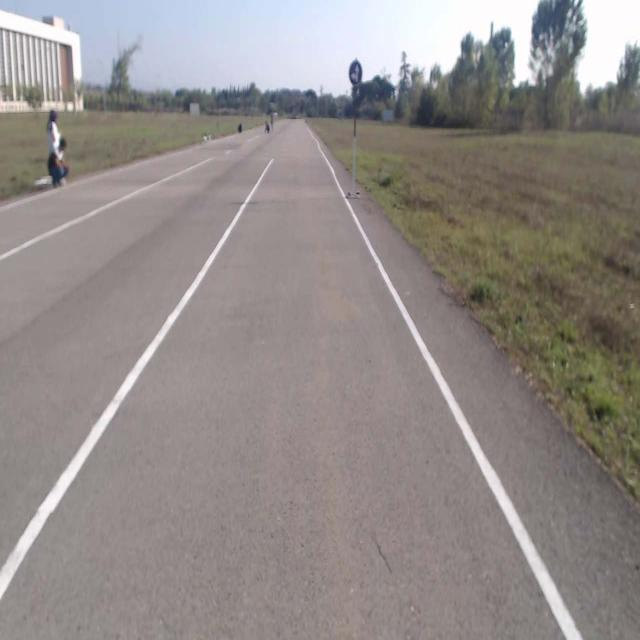ilerisol: (348, 62, 362, 84)
